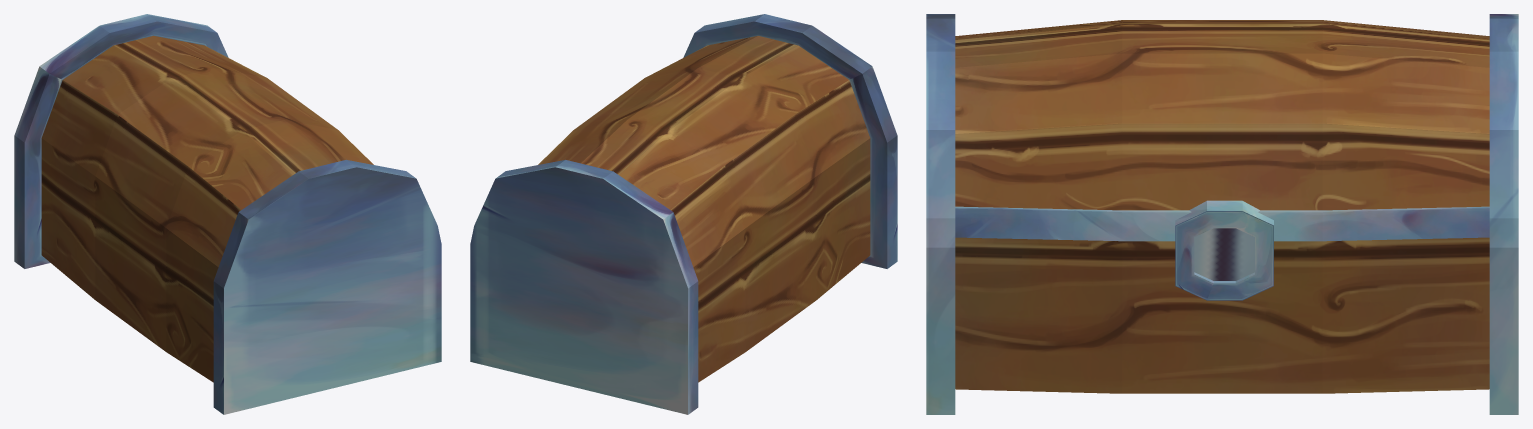
File: coffre.fbx
3 renders of one model, left to right at view 1: azimuth 30°, elevation 25°; view 2: azimuth 150°, elevation 25°; view 3: azimuth 270°, elevation 25°, orthographic. The views are drawn at different scales.
Parts seen in each view (by area): view 1: coffre; view 2: coffre; view 3: coffre.
Boxes of the visible parts, x1,y1,x2,y2 form: coffre: [14, 14, 441, 414]; coffre: [470, 14, 897, 414]; coffre: [926, 14, 1518, 414].
Bounding box in the file's own units: 0.8695 × 0.8222 × 1.45.
